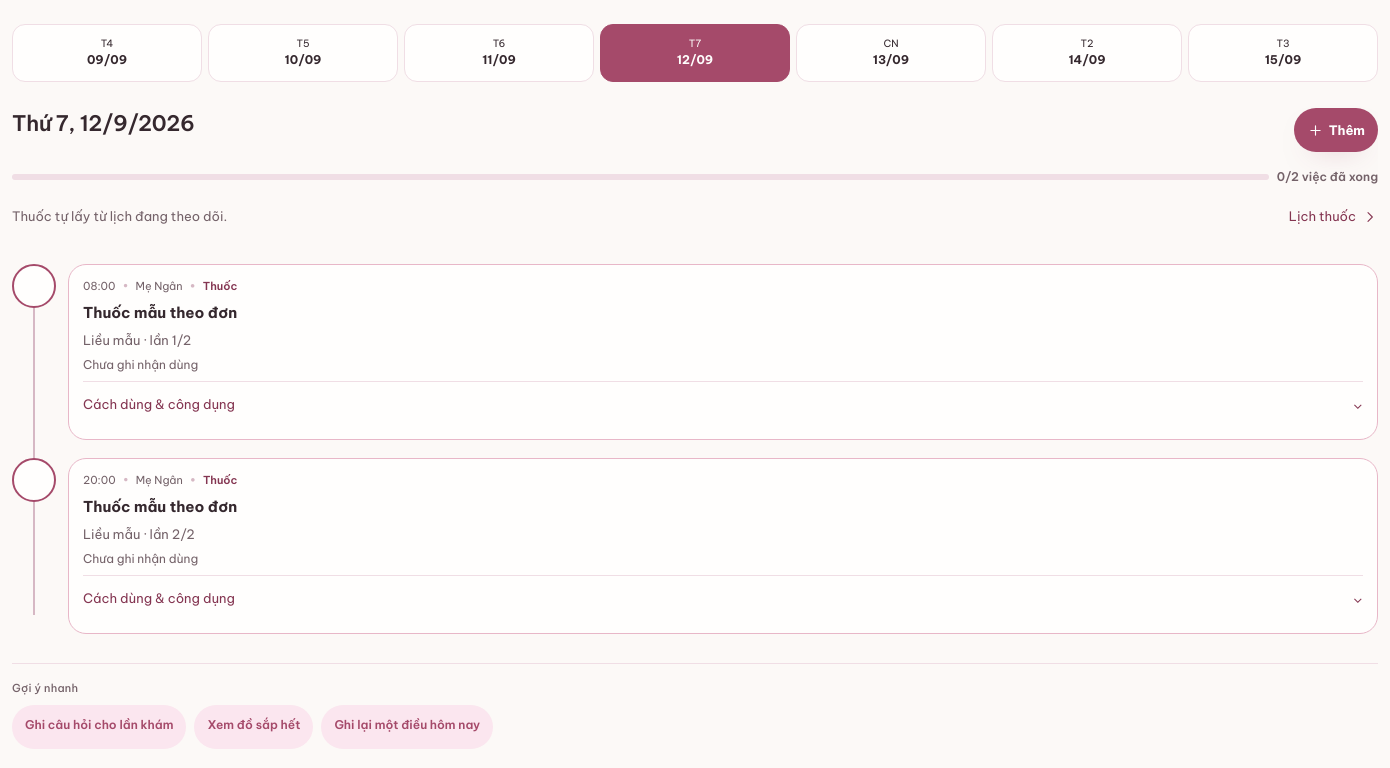
does not complete a dose or double-submit while its receipt is pending, and supports retry after failure
Expected: the text "0/2 việc đã xong" is shown, [1277,168,1378,187]
Click the button named "Đánh dấu đã dùng Thuốc mẫu theo đơn lần 1" at (34, 286), box [12,264,56,308]
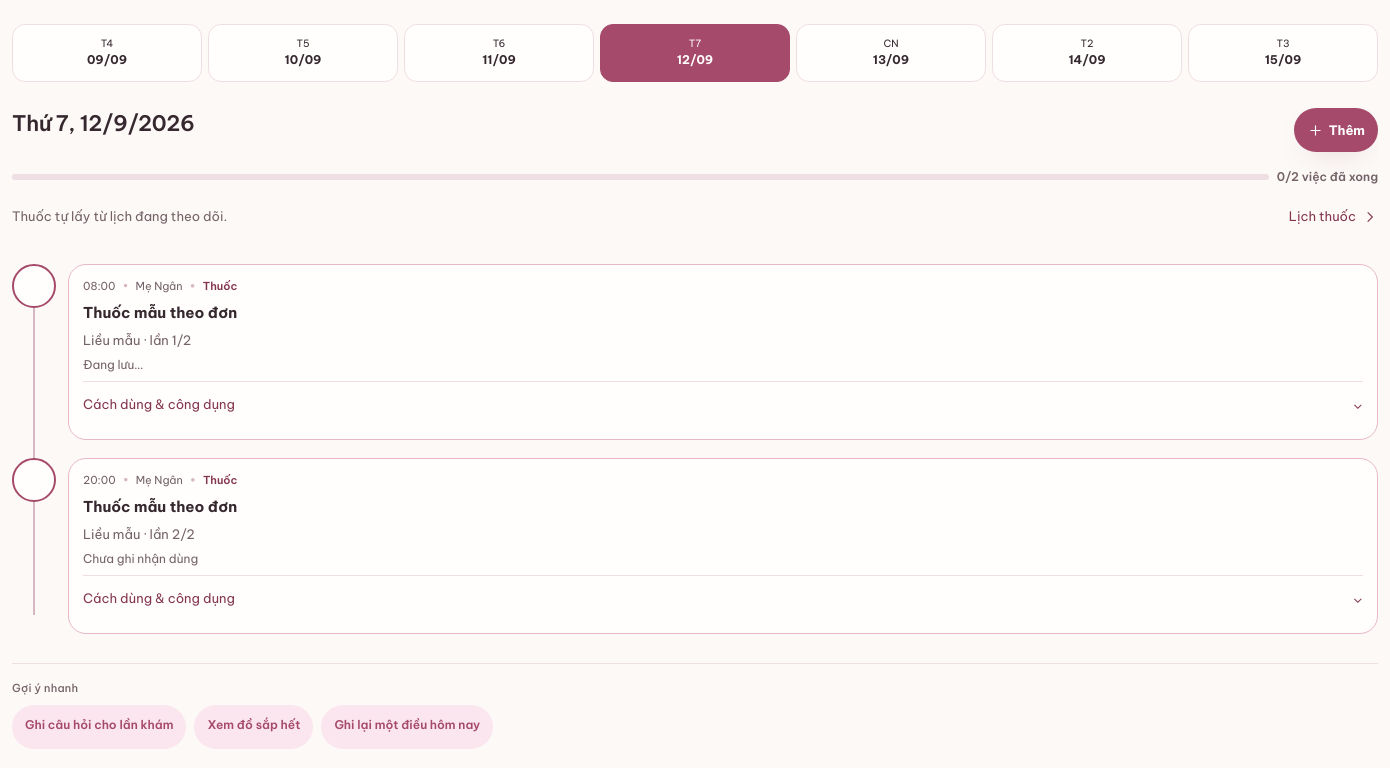
Click the button named "Đánh dấu đã dùng Thuốc mẫu theo đơn lần 1" at (34, 286), box [12,264,56,308]
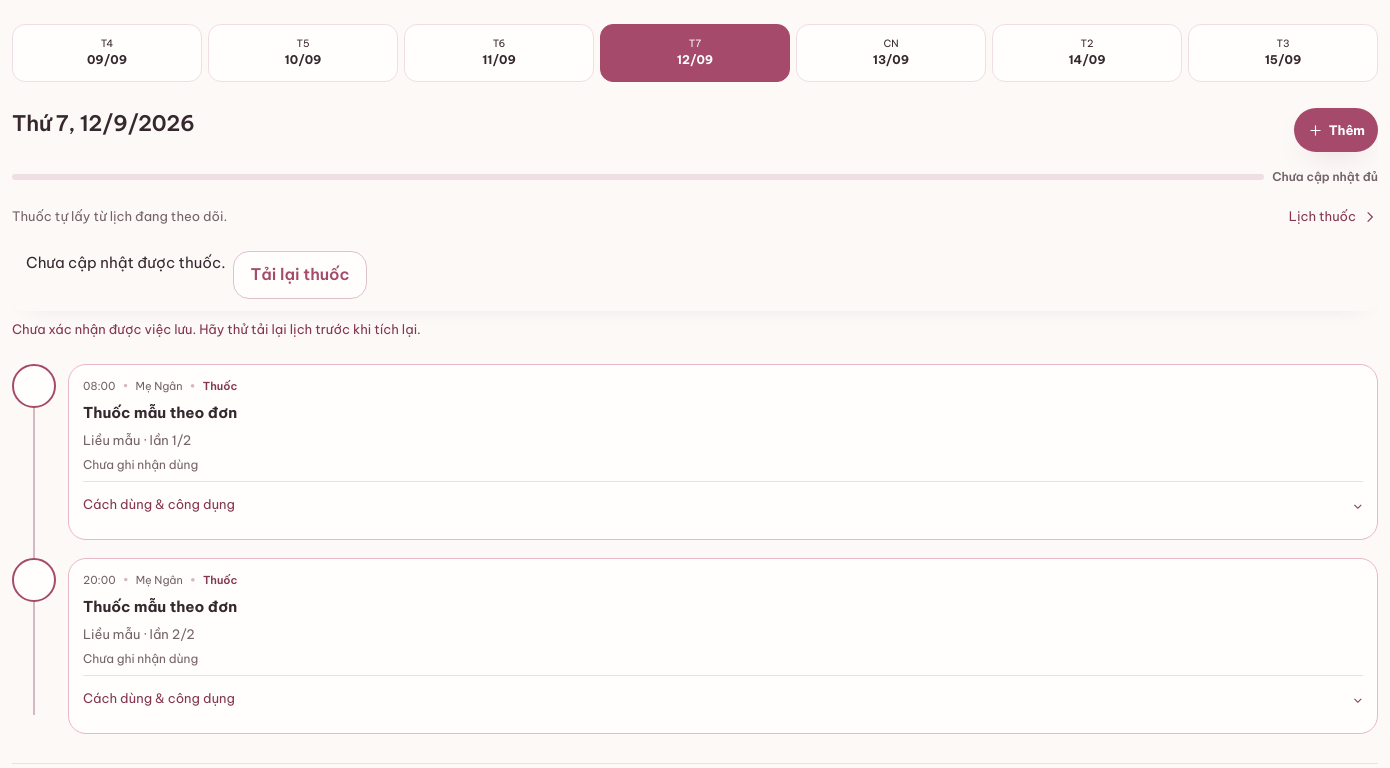
Now the text "Chưa xác nhận được việc lưu. Hãy thử tải lại lịch trước khi tích lại." is shown, box [12,321,421,337]
Now the text "Chưa cập nhật đủ" is shown, box [1272,168,1378,187]
Click the button "Tải lại thuốc" at (300, 275), box [234,251,367,299]
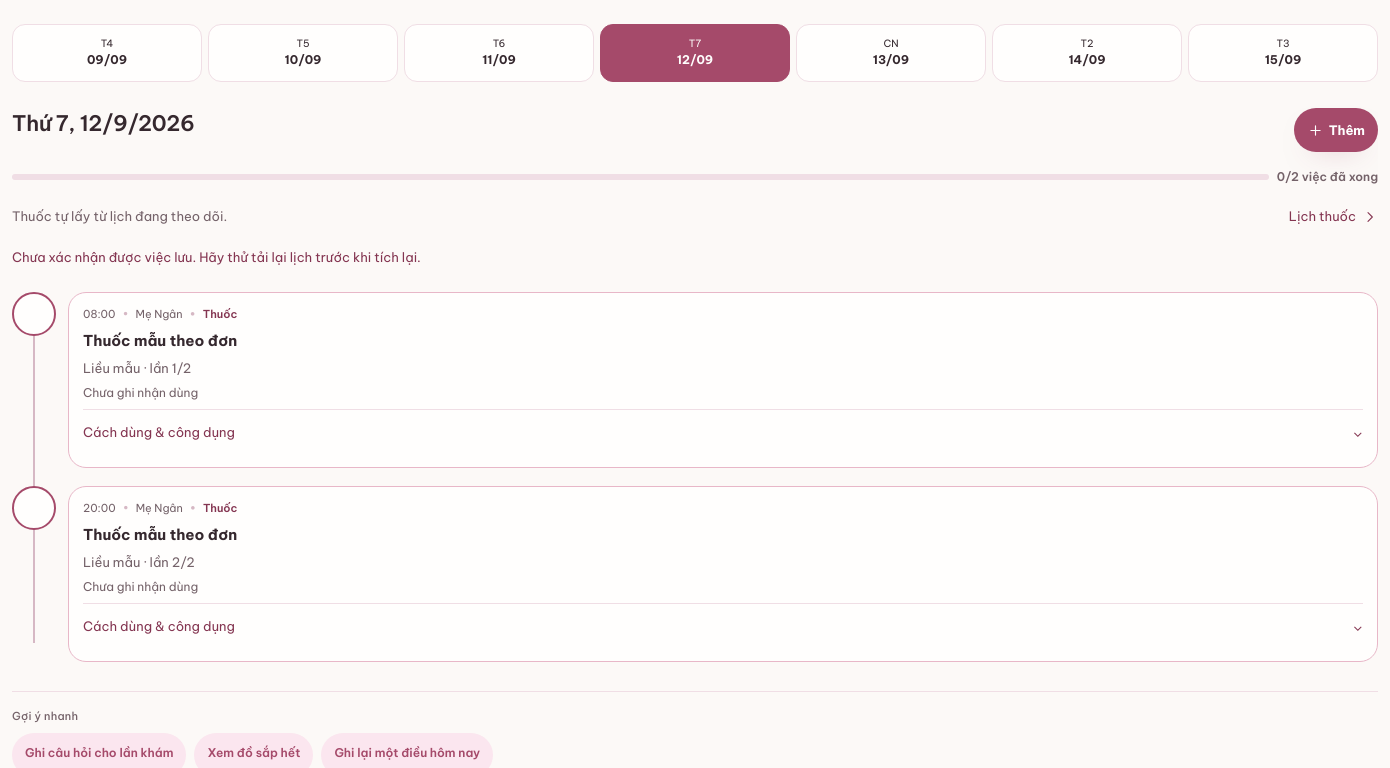
Now the text "0/2 việc đã xong" is shown, box [1277,168,1378,187]
